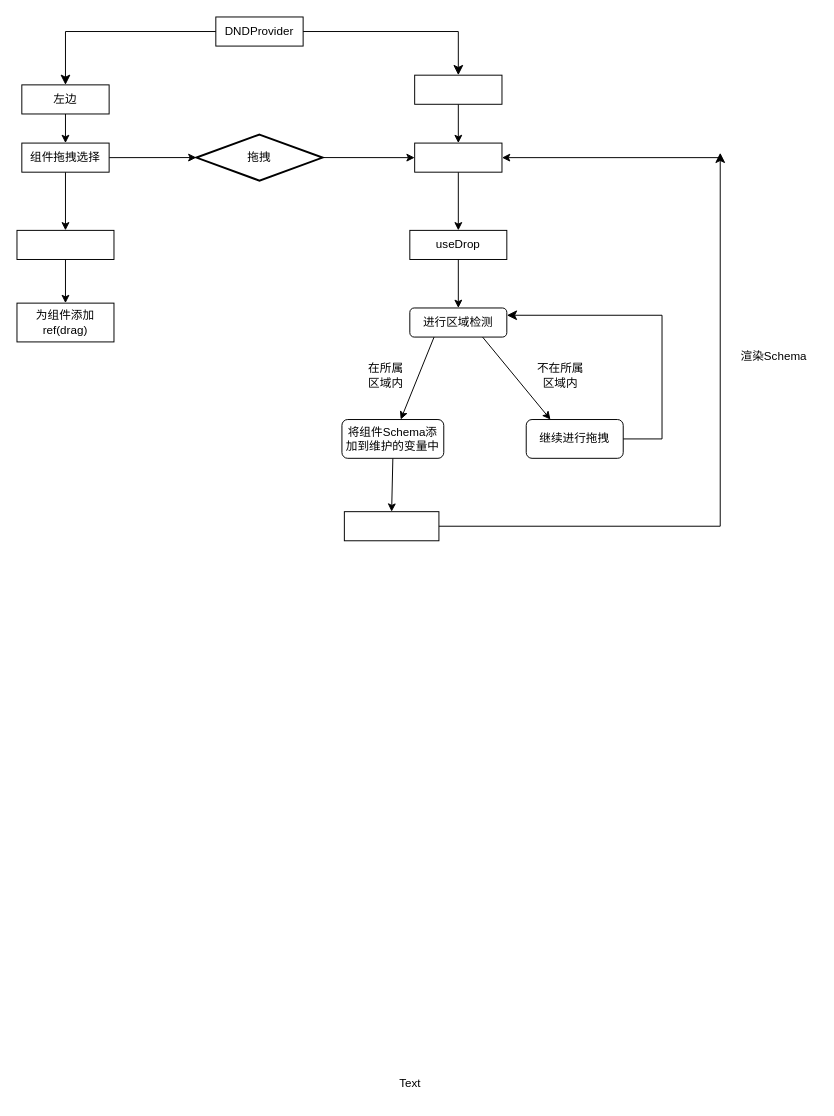
Image size: 834x1116. Some labels were removed from this diagram. Here are the shapes that lost their labels. From the top down, the centre of each, then its label:
point 458,89: 右边
point 458,157: 画布
point 65,244: useDrag
point 391,526: Renderer
